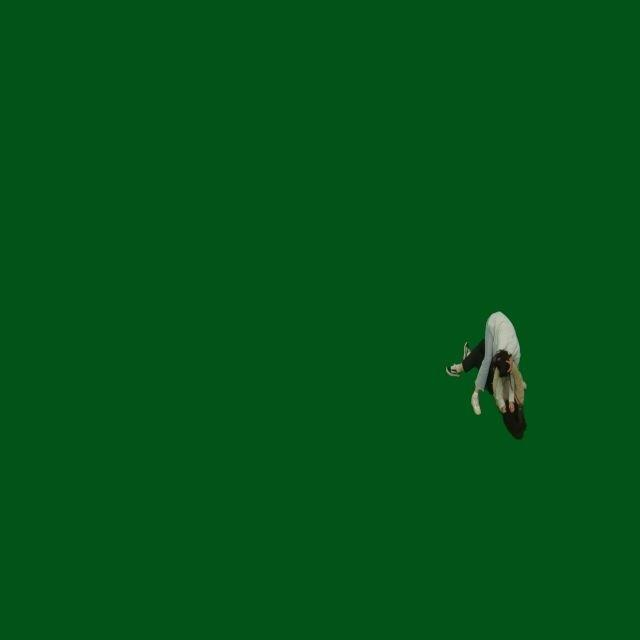fight: (444, 309, 529, 441)
